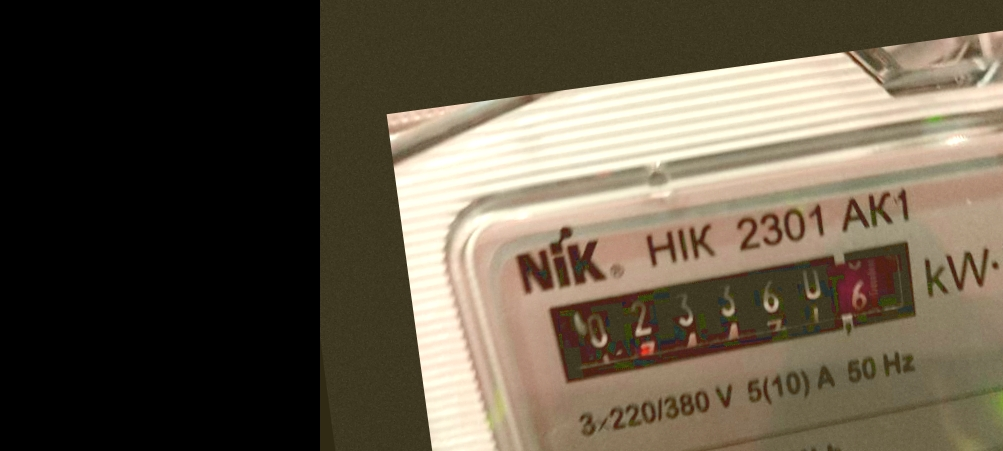0: (582, 307, 612, 352), (798, 263, 825, 302)
2: (624, 295, 656, 338)
3: (671, 287, 697, 330), (712, 279, 739, 320)
6: (754, 273, 785, 317), (847, 275, 872, 314)
screen: (523, 225, 936, 396)
